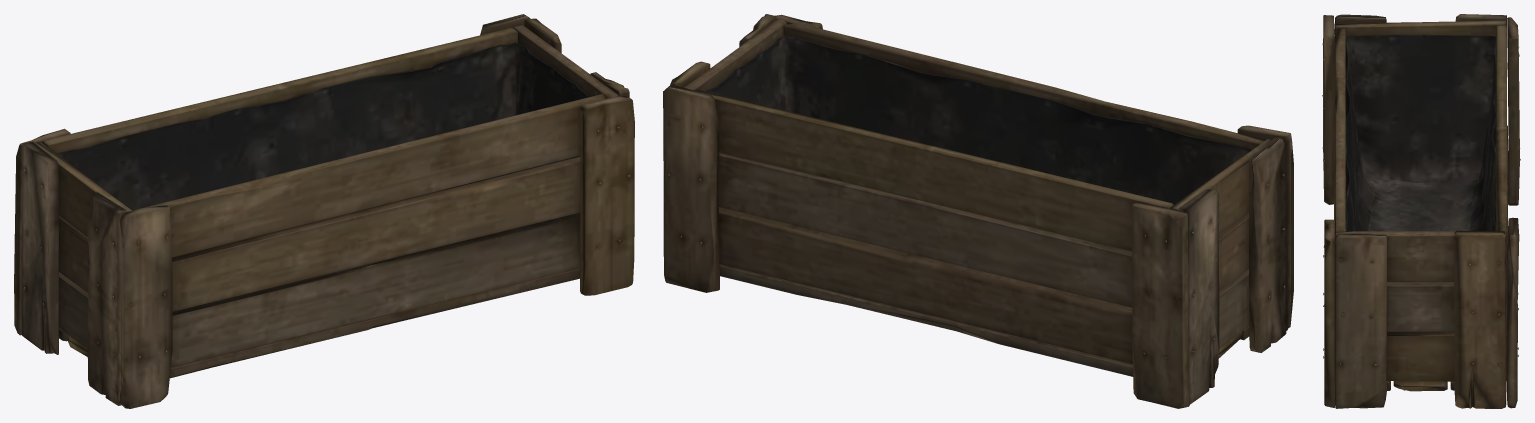
Rendered from planter_box_02.glb.
3 views of the same model, side by side, from view 1: azimuth 30°, elevation 25°; view 2: azimuth 150°, elevation 25°; view 3: azimuth 270°, elevation 25° (orthographic). The views are drawn at different scales.
Parts seen in each view (by area): view 1: planter_box_02; view 2: planter_box_02; view 3: planter_box_02.
Boxes of the visible parts, <box> form: planter_box_02: <box>14,14,634,408</box>; planter_box_02: <box>663,14,1293,408</box>; planter_box_02: <box>1322,14,1520,408</box>.
Bounding box in the file's own units: 1.25 × 0.4529 × 0.467.
Materials: 1 (1 with a texture image).
